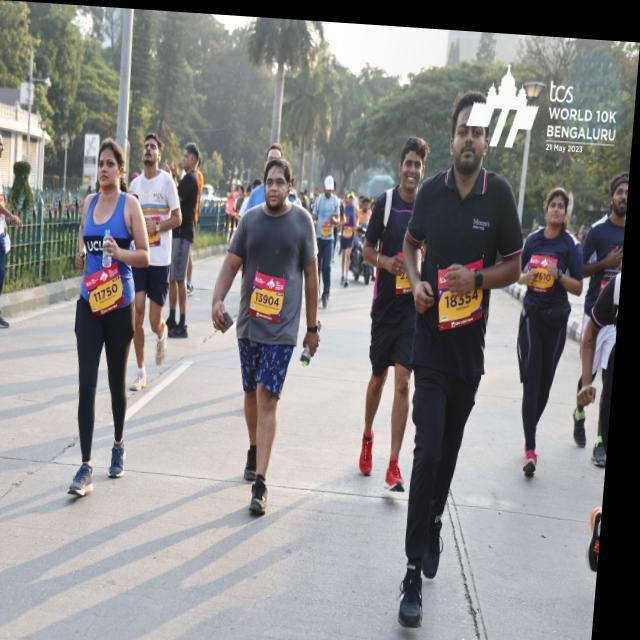dorsal: (84, 264, 134, 312), (254, 260, 292, 320)
